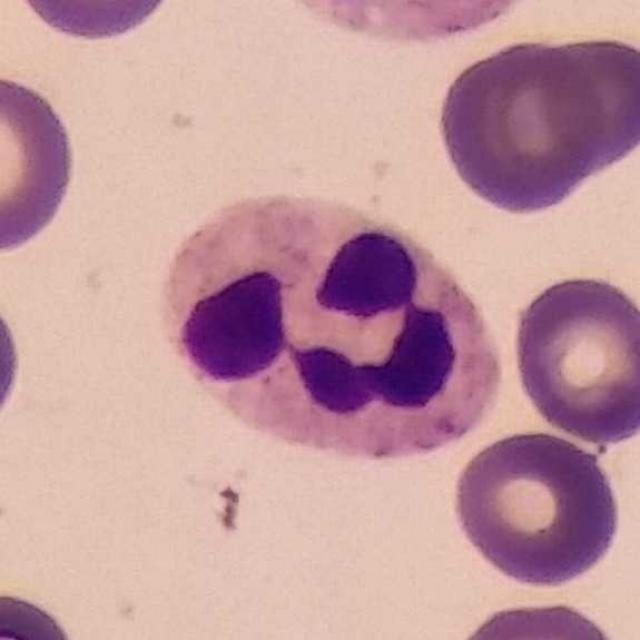Neutrophil: (146, 180, 518, 481)
RBC: (431, 31, 619, 219), (448, 424, 626, 592), (506, 269, 639, 446), (532, 29, 640, 175), (0, 67, 82, 258), (264, 0, 550, 51), (5, 0, 192, 47), (445, 594, 629, 640), (0, 584, 81, 639), (0, 304, 30, 436)
